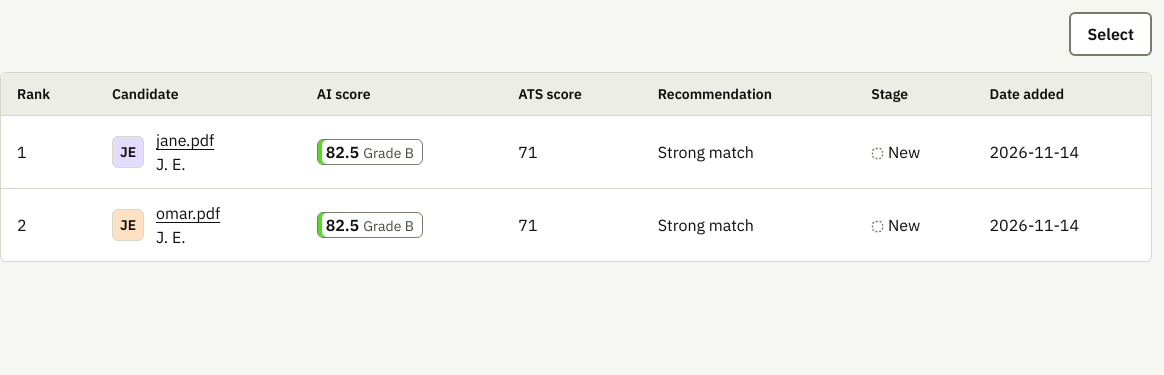
changing the stage of several candidates › select all picks the page, and a second click clears it
Expected: the element named "Candidates" is shown, [0, 72, 1152, 262]
Click the button "Select".
click(1111, 34)  # box [1070, 12, 1152, 56]
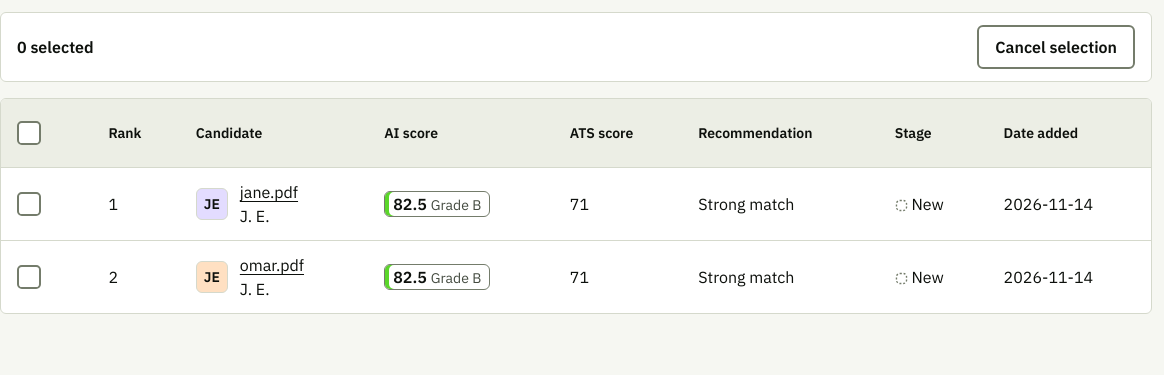
Click the 1st checkbox named "Select all on this page".
click(29, 133)  # box [17, 121, 41, 145]
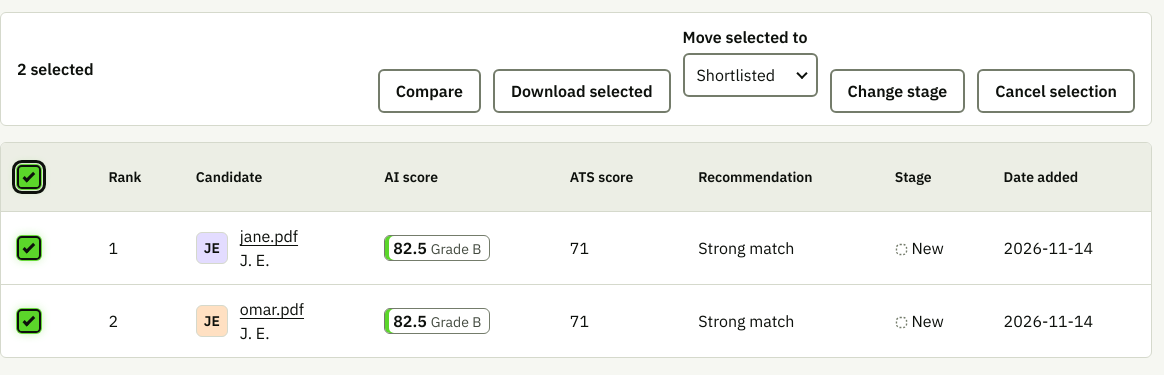
Now the checkbox named "Select omar.pdf" in the row of "omar.pdf" is checked, box [17, 309, 41, 333]
Click the 1st checkbox named "Select all on this page".
click(29, 177)  # box [17, 165, 41, 189]
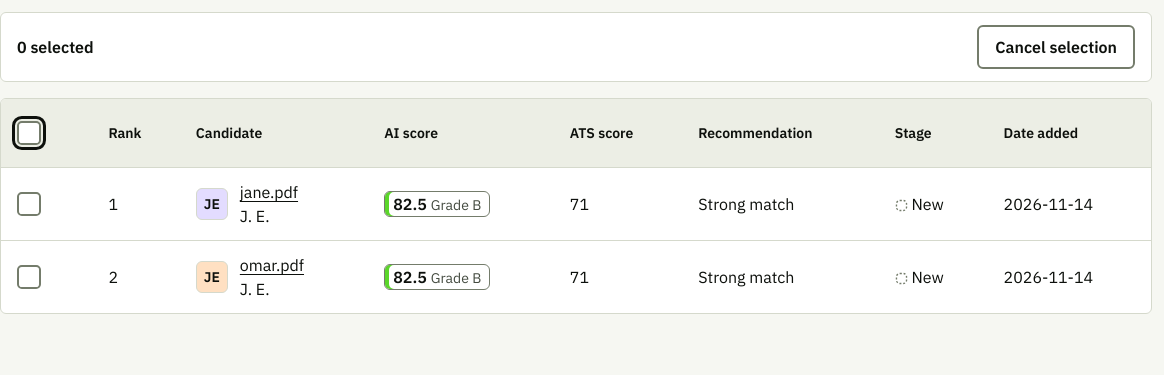
Now the checkbox named "Select omar.pdf" in the row of "omar.pdf" is not checked, box [17, 265, 41, 289]
